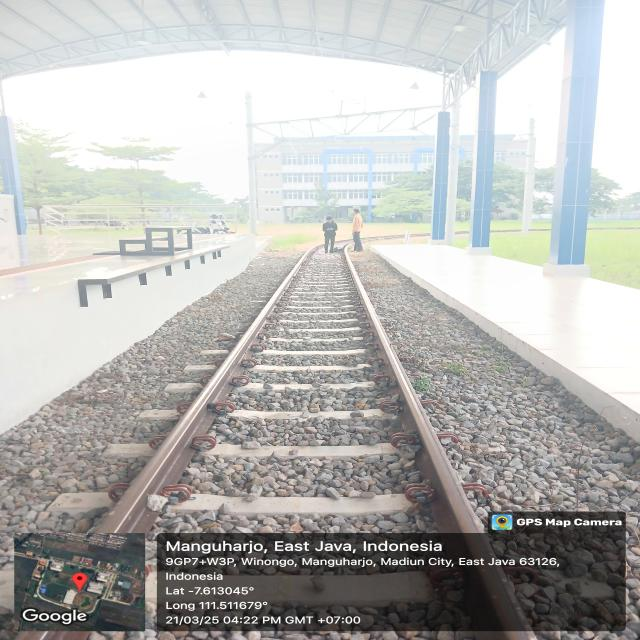rail-detection: (96, 253, 307, 534), (351, 267, 484, 533)
